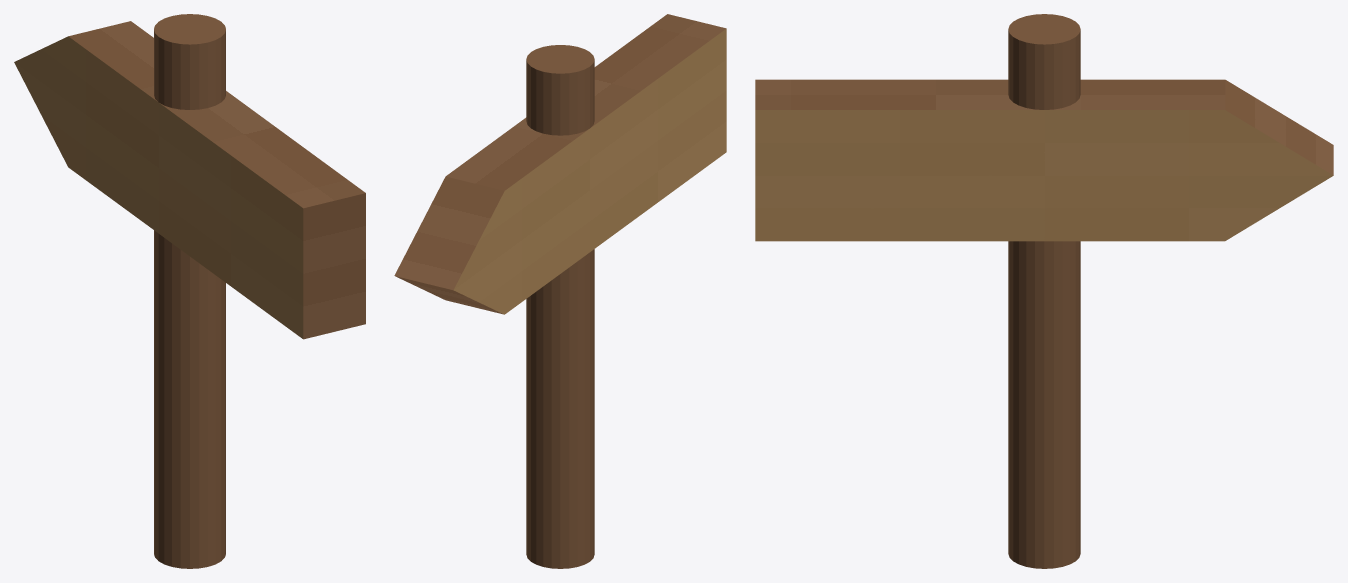
File: waypost_a.obj
3 renders of one model, left to right at view 1: azimuth 30°, elevation 25°; view 2: azimuth 150°, elevation 25°; view 3: azimuth 270°, elevation 25°, orthographic. The views are drawn at different scales.
Visible parts, largest first — view 1: waypost_a; view 2: waypost_a; view 3: waypost_a.
Boxes of the visible parts, x1=… form: waypost_a: x1=14, y1=14, x2=365, y2=568; waypost_a: x1=394, y1=14, x2=726, y2=568; waypost_a: x1=755, y1=14, x2=1333, y2=568.
Bounding box in the file's own units: 0.125 × 1 × 1.
Materials: 1 (1 with a texture image).
